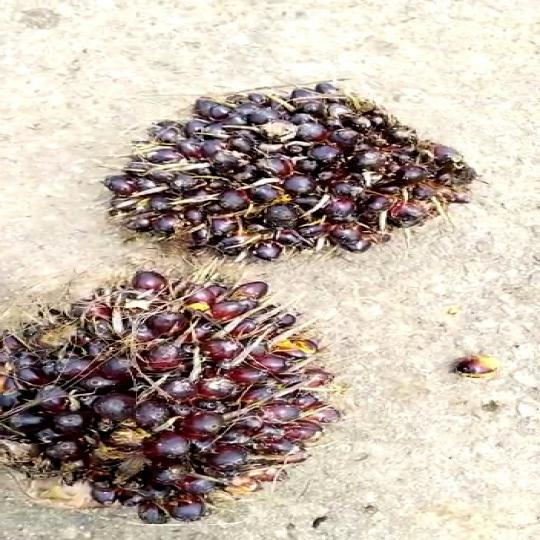kurang masak: (0, 257, 345, 507), (108, 70, 479, 257)
